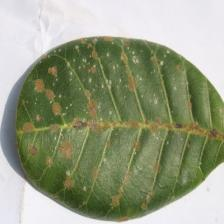red rust: (14, 35, 224, 221)
